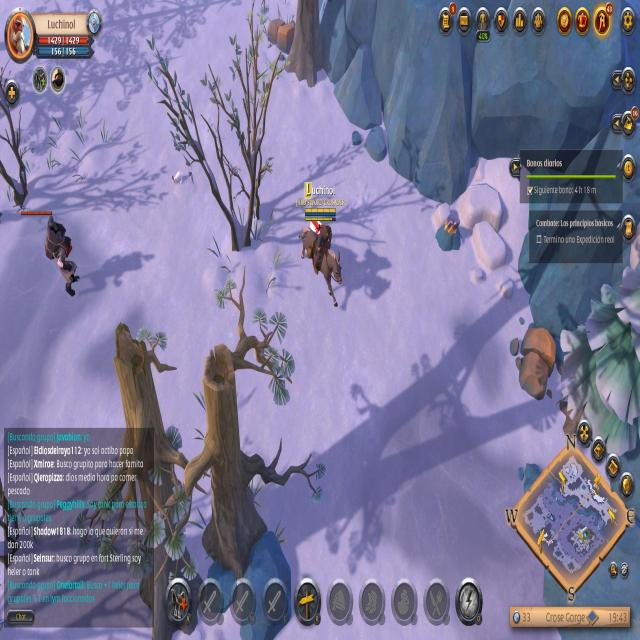piedra_cobre: (435, 220, 459, 252)
